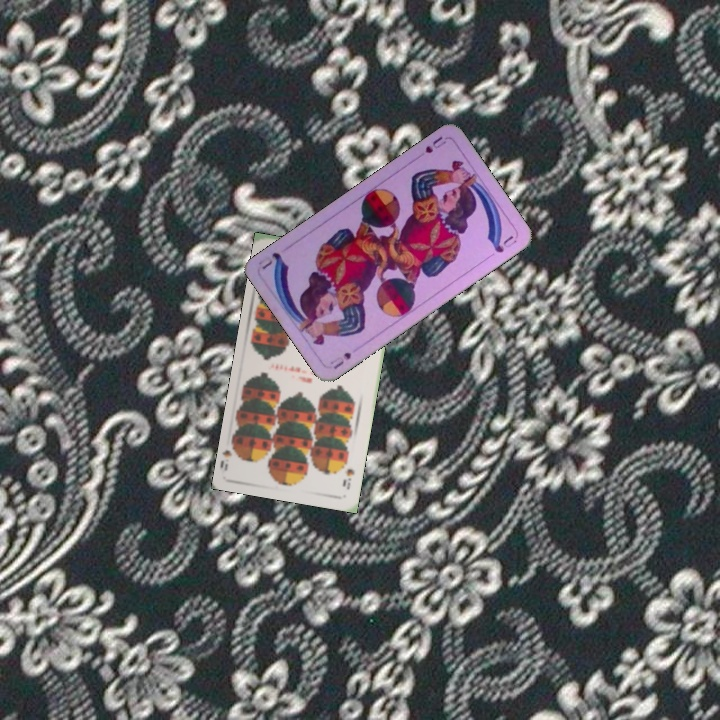S9: (338, 464, 357, 492)
SU: (326, 348, 354, 372), (421, 132, 449, 156)
